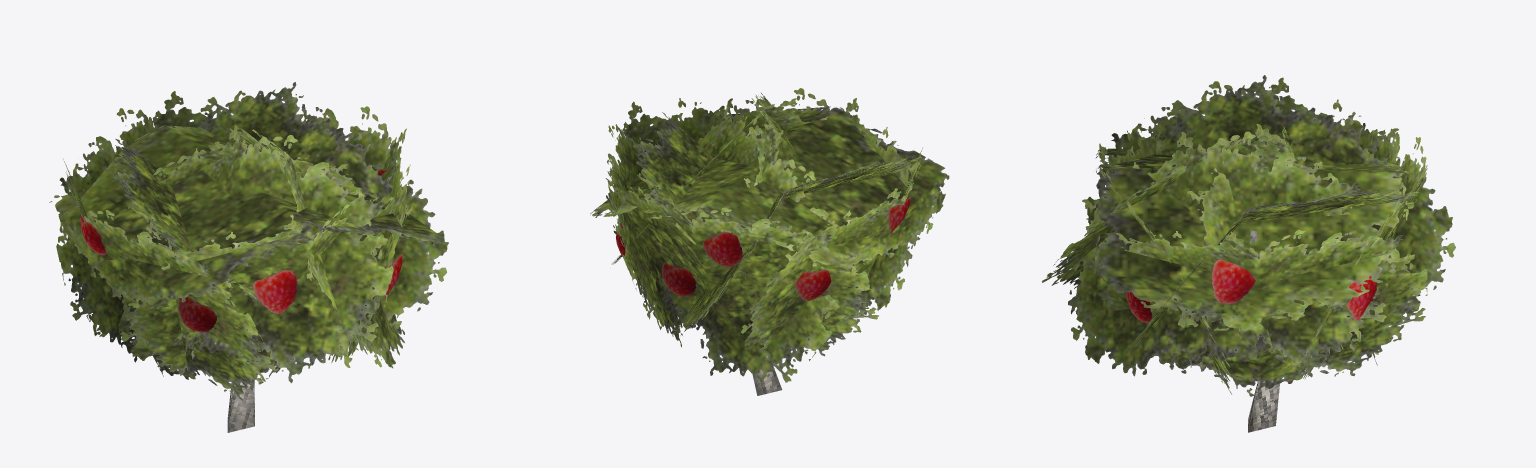
File: Rasberry Bush.fbx
3 views of the same model, side by side, from view 1: azimuth 30°, elevation 25°; view 2: azimuth 150°, elevation 25°; view 3: azimuth 270°, elevation 25° (orthographic). The views are drawn at different scales.
Parts seen in each view (by area): view 1: Rasberry Bush; view 2: Rasberry Bush; view 3: Rasberry Bush.
Part boxes in pixels (x1=…): Rasberry Bush: x1=49, y1=82, x2=448, y2=432; Rasberry Bush: x1=590, y1=88, x2=949, y2=395; Rasberry Bush: x1=1042, y1=75, x2=1455, y2=432.
Size of the model in its own units: 1.26 by 0.9776 by 1.34.
Materials: 2 (2 with a texture image).
